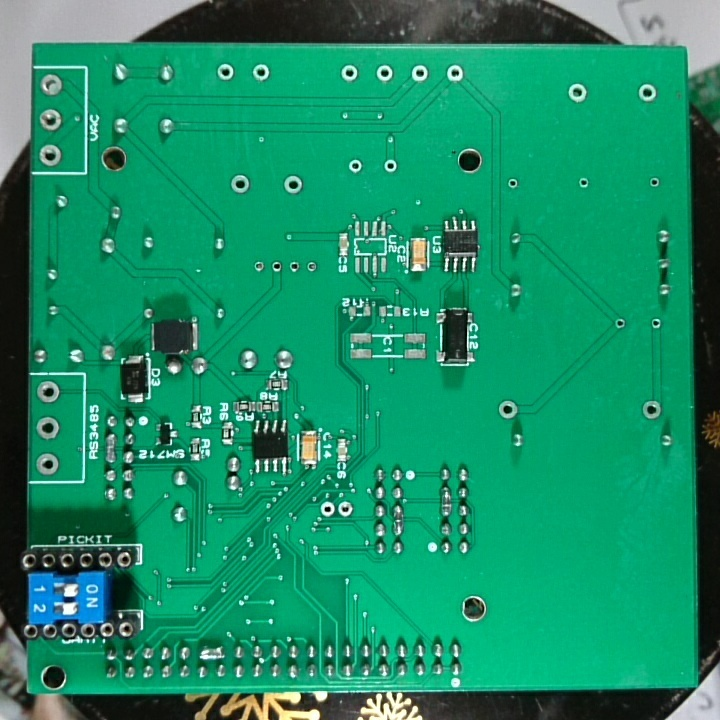F: (33, 449, 62, 478), (34, 378, 62, 408), (34, 414, 62, 443), (38, 71, 65, 99), (37, 142, 64, 169), (639, 398, 665, 425), (37, 106, 64, 132), (565, 80, 590, 106), (228, 171, 254, 196), (280, 171, 305, 196), (372, 62, 397, 86), (637, 80, 659, 105), (496, 398, 519, 421), (251, 60, 273, 84), (215, 60, 237, 83), (337, 62, 360, 84), (444, 62, 465, 86), (409, 63, 431, 85), (381, 155, 401, 178), (318, 498, 337, 522), (345, 157, 366, 178), (285, 257, 303, 278), (336, 500, 354, 519), (268, 258, 285, 278), (250, 258, 268, 276), (576, 173, 592, 192), (305, 257, 318, 278), (648, 315, 663, 332), (505, 177, 521, 192), (648, 174, 662, 191), (613, 316, 626, 332)
P: (197, 643, 227, 663), (437, 483, 454, 518), (103, 432, 117, 466), (391, 503, 405, 535)
